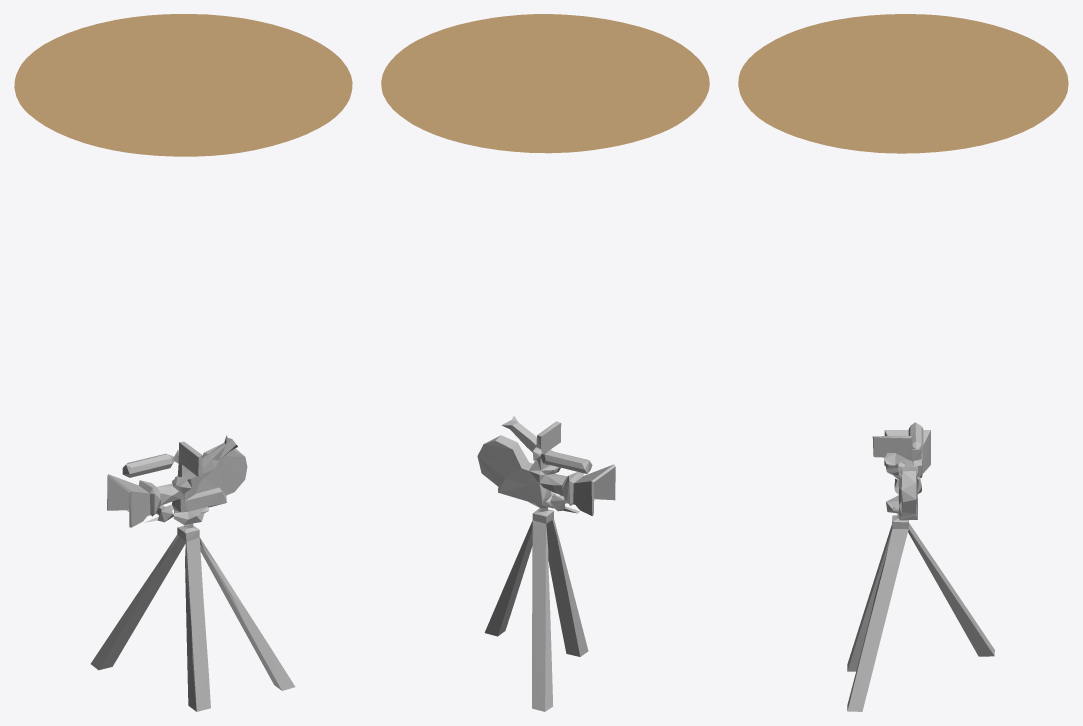
File: init.glb
The picture shows the model from 3 angles, left to right: view 1: azimuth 30°, elevation 25°; view 2: azimuth 150°, elevation 25°; view 3: azimuth 270°, elevation 25°; orthographic projection. The views are drawn at different scales.
Parts seen in each view (by area): view 1: world, object.obj; view 2: world, object.obj; view 3: world, object.obj.
Boxes of the visible parts, <box> form: world: <box>14,14,352,156</box>; object.obj: <box>90,435,295,711</box>; world: <box>381,14,709,153</box>; object.obj: <box>477,416,615,711</box>; world: <box>738,14,1068,153</box>; object.obj: <box>847,422,994,711</box>.
Bounding box in the file's own units: 0.5085 × 1 × 0.5085.
